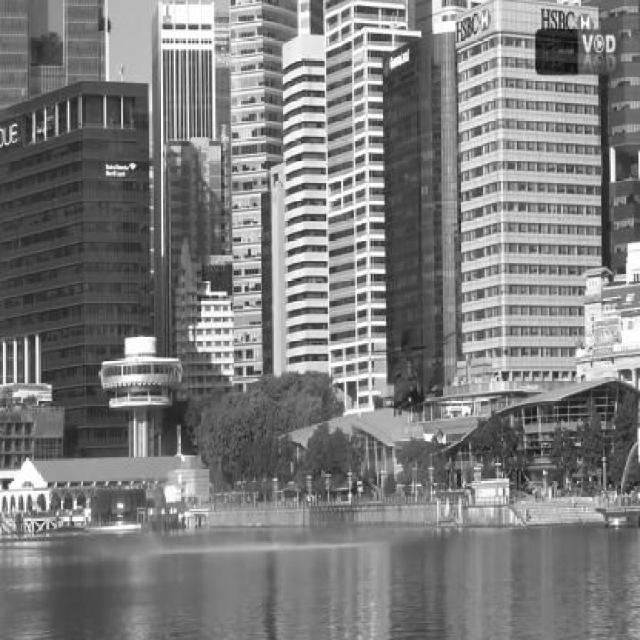Helicopter: (345, 330, 468, 418)
